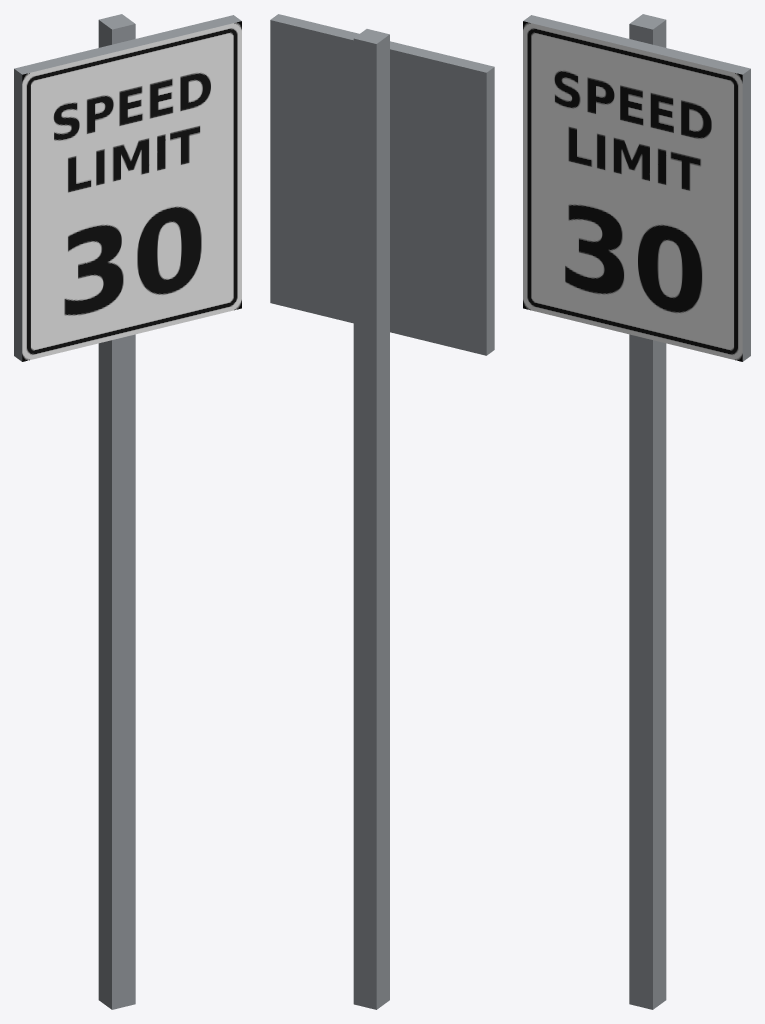
The model's file is us_speed30.dae.
The picture shows the model from 3 angles, left to right: view 1: azimuth 30°, elevation 25°; view 2: azimuth 150°, elevation 25°; view 3: azimuth 330°, elevation 25°; orthographic projection.
Visible parts, largest first — view 1: sign4, Colmesh-1; view 2: Colmesh-1, sign4; view 3: sign4, Colmesh-1.
Part boxes in pixels (x1,y1,x2,y2): sign4: (22,14,241,1009); Colmesh-1: (14,15,241,361); Colmesh-1: (270,14,494,355); sign4: (353,29,389,1009); sign4: (523,14,742,1009); Colmesh-1: (523,15,750,361).
Size of the model in its own units: 0.6096 by 0.105 by 2.6.
2 materials, 1 textured.
